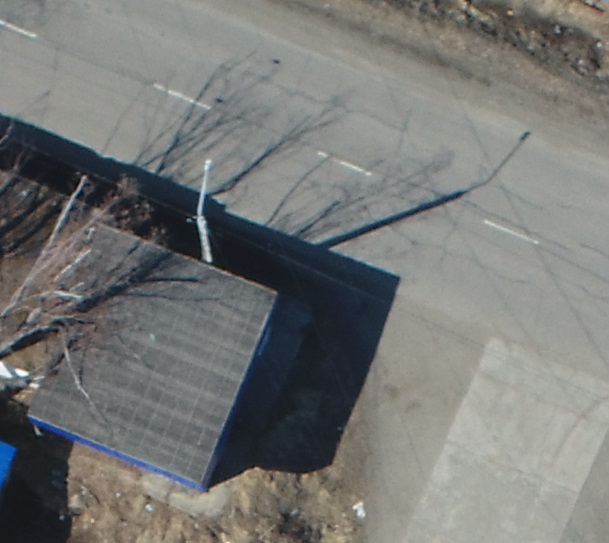opora: (195, 155, 223, 270)
